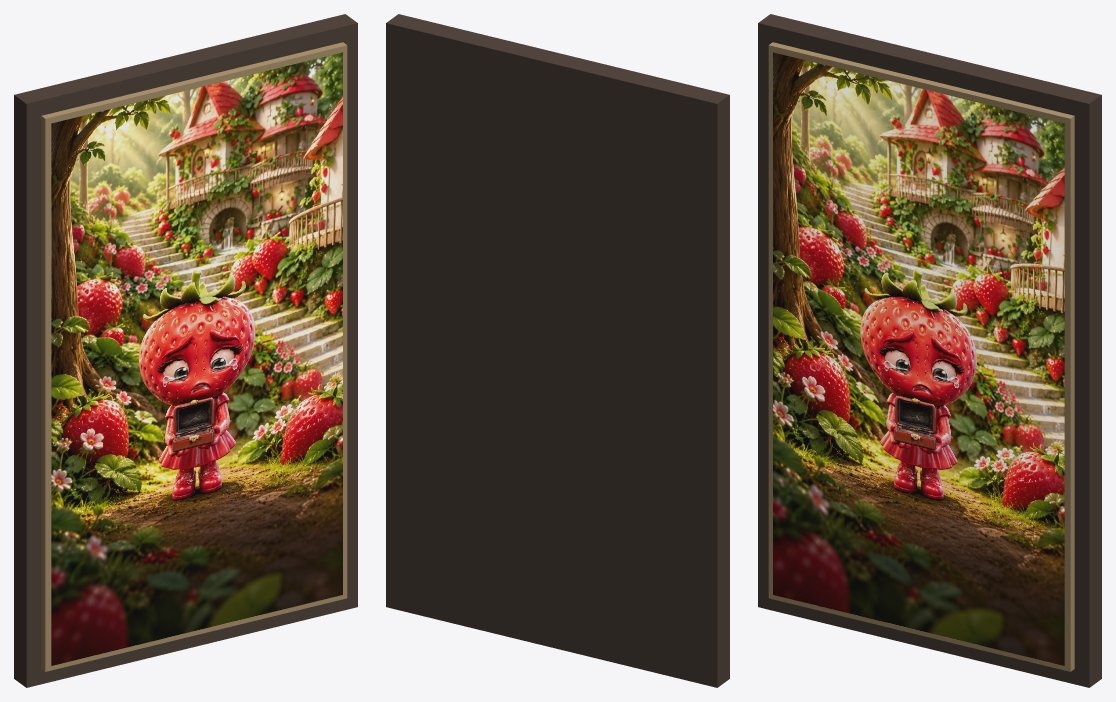
The model's file is painting_strawberlina.glb.
3 views of the same model, side by side, from view 1: azimuth 30°, elevation 25°; view 2: azimuth 150°, elevation 25°; view 3: azimuth 330°, elevation 25° (orthographic).
Parts seen in each view (by area): view 1: Art, Solid joinery, Solid joinery.001; view 2: Solid joinery; view 3: Art, Solid joinery, Solid joinery.001.
Boxes of the visible parts, left/top/right/bottom form: Art: left=51, top=52, right=342, bottom=665; Solid joinery: left=14, top=14, right=357, bottom=687; Solid joinery.001: left=41, top=42, right=347, bottom=671; Solid joinery: left=386, top=14, right=729, bottom=687; Art: left=773, top=52, right=1064, bottom=665; Solid joinery: left=758, top=14, right=1101, bottom=687; Solid joinery.001: left=768, top=42, right=1074, bottom=671.
Bounding box in the file's own units: 0.4602 × 0.775 × 0.042.
3 materials, 1 textured.
